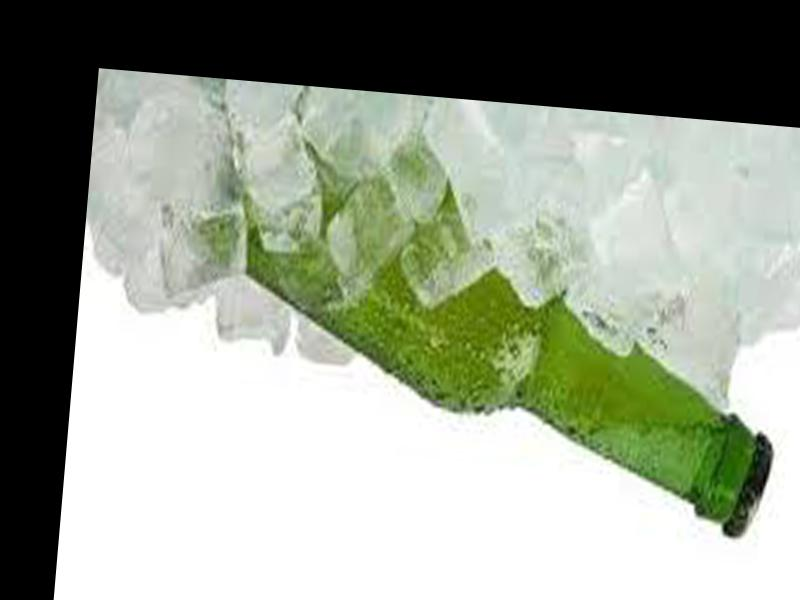Beer: (184, 193, 797, 536)
